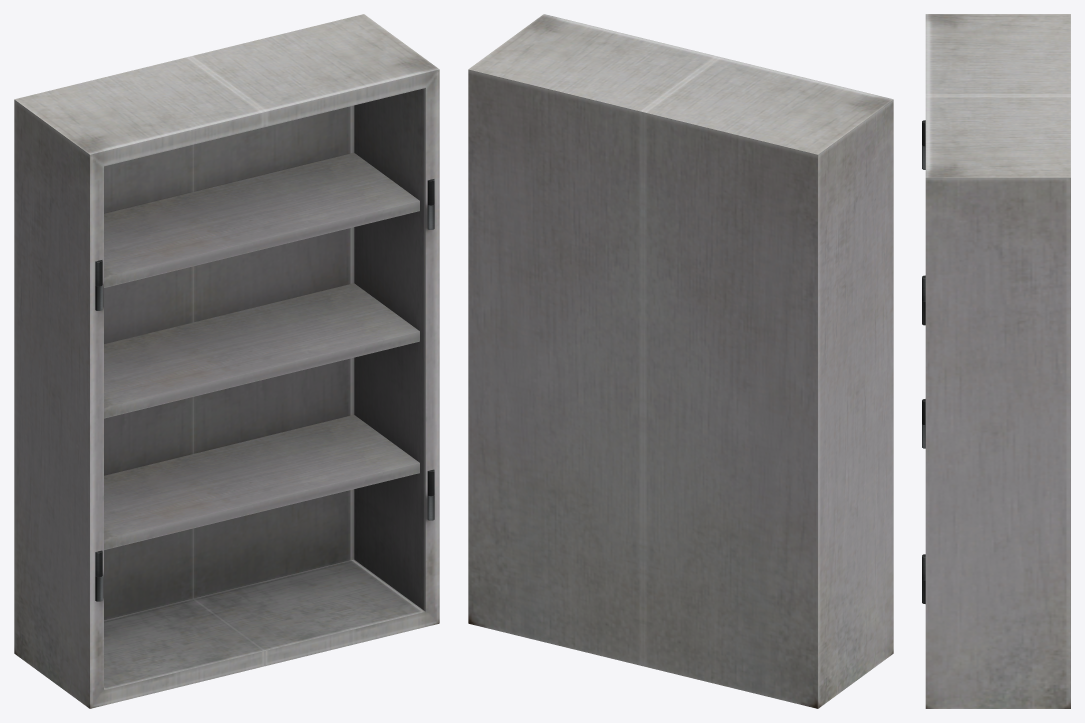
Rendered from shelf_glass_doors.dae.
3 views of the same model, side by side, from view 1: azimuth 30°, elevation 25°; view 2: azimuth 150°, elevation 25°; view 3: azimuth 270°, elevation 25° (orthographic). The views are drawn at different scales.
Parts seen in each view (by area): view 1: shelf_glass_doors; view 2: shelf_glass_doors; view 3: shelf_glass_doors.
Boxes of the visible parts, x1,y1,x2,y2 form: shelf_glass_doors: (14, 14, 439, 708); shelf_glass_doors: (468, 14, 893, 708); shelf_glass_doors: (922, 14, 1070, 708).
Bounding box in the file's own units: 1.45 × 2.2 × 0.5584.
